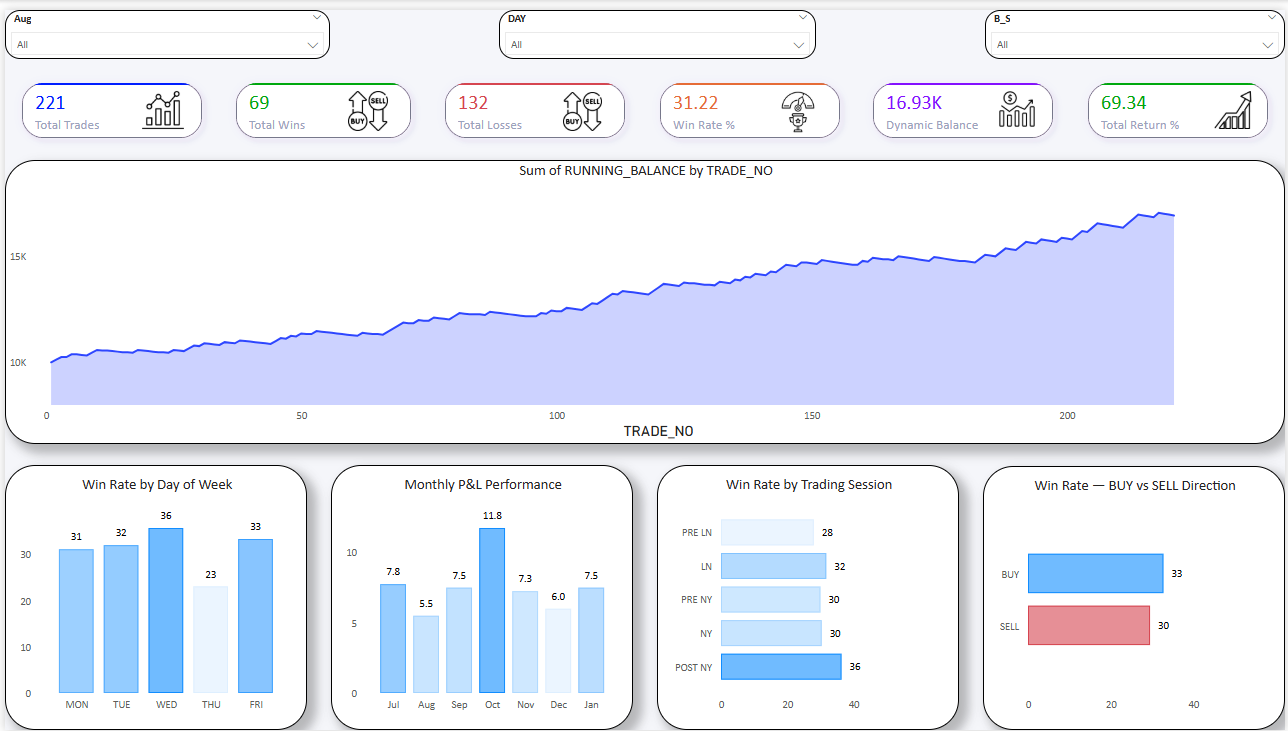

The page's visual inventory and layout, read from the dashboard file:
{"tool":"powerbi","page":{"name":"Strategy Overview","canvas":[1280,720],"ordinal":0},"visuals":[{"type":"cardVisual","fields":{"Data":["eu_enriched.Total Trades"]},"box":[0,55.9,214.4,89.1],"z":0,"group":"g1"},{"type":"lineChart","fields":{"Category":["eu_enriched.TRADE_NO"],"Y":["Sum(eu_enriched.RUNNING_BALANCE)"]},"box":[0,149.9,1279.7,284.4],"z":0},{"type":"cardVisual","fields":{"Data":["eu_enriched.Win Rate %"]},"box":[637.7,55.9,213.8,89.1],"z":1000,"group":"g4"},{"type":"columnChart","title":"Win Rate by Day of Week","fields":{"Category":["eu_enriched.DAY"],"Y":["eu_enriched.Win Rate %"]},"box":[0,455.2,301.6,264.8],"z":1000},{"type":"cardVisual","fields":{"Data":["eu_enriched.Dynamic Balance"]},"box":[851.5,55.9,214.4,89.1],"z":2000,"group":"g5"},{"type":"clusteredColumnChart","title":"Monthly P&L Performance","fields":{"Category":["eu_enriched.MONTH"],"Y":["eu_enriched.Monthly PnL1"]},"box":[326,455.2,301.6,264.8],"z":2000},{"type":"cardVisual","fields":{"Data":["eu_enriched.Total Return %"]},"box":[1065.6,55.9,214.4,89.1],"z":3000,"group":"g6"},{"type":"barChart","title":"Win Rate by Trading Session","fields":{"Category":["eu_enriched.IFVG_ENTRY"],"Y":["eu_enriched.Win Rate %"]},"box":[652,455.2,301.6,264.8],"z":3000},{"type":"cardVisual","fields":{"Data":["eu_enriched.Total Losses"]},"box":[423.3,55.9,214.4,89.1],"z":4000,"group":"g3"},{"type":"clusteredBarChart","title":"Win Rate — BUY vs SELL Direction","fields":{"Category":["eu_enriched.B_S"],"Y":["eu_enriched.Win Rate %"]},"box":[978,455.8,301.6,264.2],"z":4000},{"type":"slicer","title":"Month","fields":{"Values":["eu_enriched.MONTH"]},"box":[0,0,324.5,55.9],"z":5000},{"type":"cardVisual","fields":{"Data":["eu_enriched.Total Wins"]},"box":[214.4,55.9,208.9,89.1],"z":5000,"group":"g2"},{"type":"slicer","fields":{"Values":["eu_enriched.DAY"]},"box":[493.9,0,316.6,55.9],"z":6000},{"type":"slicer","fields":{"Values":["eu_enriched.B_S"]},"box":[979.8,0,299.7,55.9],"z":7000},{"type":"group","id":"g1","title":"Group 1","box":[0,55.9,214.4,89.1],"z":8000},{"type":"group","id":"g2","title":"Group 2","box":[214.4,55.9,208.9,89.1],"z":9000},{"type":"group","id":"g3","title":"Group 3","box":[423.3,55.9,214.4,89.1],"z":10000},{"type":"group","id":"g4","title":"Group 4","box":[637.7,55.9,213.8,89.1],"z":11000},{"type":"group","id":"g5","title":"Group 5","box":[851.5,55.9,214.4,89.1],"z":12000},{"type":"group","id":"g6","title":"Group 6","box":[1065.6,55.9,214.4,89.1],"z":13000},{"type":"image","box":[332.4,81.1,62,39.9],"z":14000,"group":"g2"},{"type":"image","box":[546.8,82.3,62,38.7],"z":15000,"group":"g3"},{"type":"image","box":[988.5,81.1,47.3,36.2],"z":16000,"group":"g5"},{"type":"image","box":[1200.4,81.1,54.1,37.5],"z":17000,"group":"g6"},{"type":"image","box":[762.4,80.5,59,42.4],"z":18000,"group":"g4"},{"type":"image","box":[129.6,78.6,55.3,42.4],"z":19000,"group":"g1"}]}

Visuals, with their boxes in screenshot pixels (x1, y1, x2, y2), scaled from the page's 1280x720 canvas onto the 1288x731 screenshot:
cardVisual - eu_enriched.Total Trades: locate(0, 57, 216, 147)
lineChart - eu_enriched.TRADE_NO x Sum(eu_enriched.RUNNING_BALANCE): locate(0, 152, 1287, 441)
cardVisual - eu_enriched.Win Rate %: locate(642, 57, 857, 147)
"Win Rate by Day of Week" columnChart: locate(0, 462, 303, 730)
cardVisual - eu_enriched.Dynamic Balance: locate(857, 57, 1073, 147)
"Monthly P&L Performance" clusteredColumnChart: locate(328, 462, 632, 730)
cardVisual - eu_enriched.Total Return %: locate(1072, 57, 1287, 147)
"Win Rate by Trading Session" barChart: locate(656, 462, 960, 730)
cardVisual - eu_enriched.Total Losses: locate(426, 57, 642, 147)
"Win Rate — BUY vs SELL Direction" clusteredBarChart: locate(984, 463, 1287, 730)
"Month" slicer: locate(0, 0, 327, 57)
cardVisual - eu_enriched.Total Wins: locate(216, 57, 426, 147)
slicer - eu_enriched.DAY: locate(497, 0, 816, 57)
slicer - eu_enriched.B_S: locate(986, 0, 1287, 57)
"Group 1" group: locate(0, 57, 216, 147)
"Group 2" group: locate(216, 57, 426, 147)
"Group 3" group: locate(426, 57, 642, 147)
"Group 4" group: locate(642, 57, 857, 147)
"Group 5" group: locate(857, 57, 1073, 147)
"Group 6" group: locate(1072, 57, 1287, 147)
image: locate(334, 82, 397, 123)
image: locate(550, 84, 613, 123)
image: locate(995, 82, 1042, 119)
image: locate(1208, 82, 1262, 120)
image: locate(767, 82, 827, 125)
image: locate(130, 80, 186, 123)
